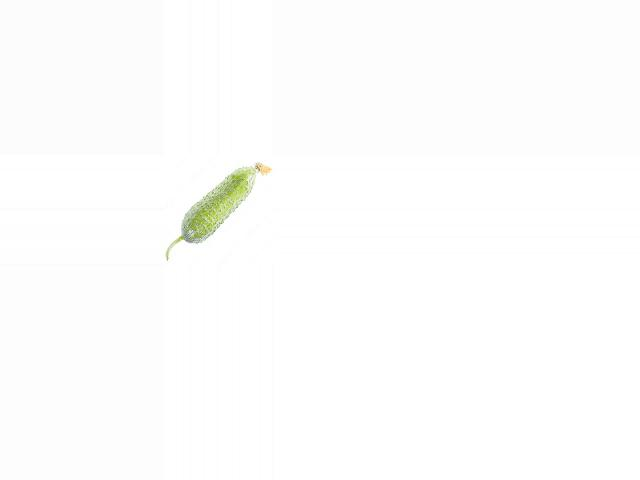cucumber: (166, 162, 272, 260)
